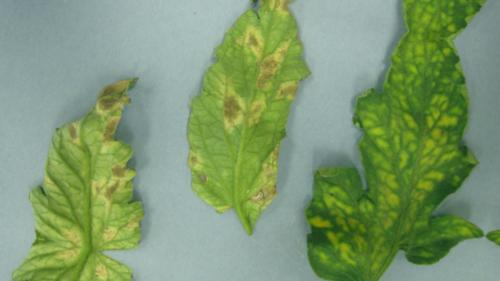Tomato mold leaf: (289, 17, 500, 281), (165, 0, 330, 232), (17, 67, 171, 259)
